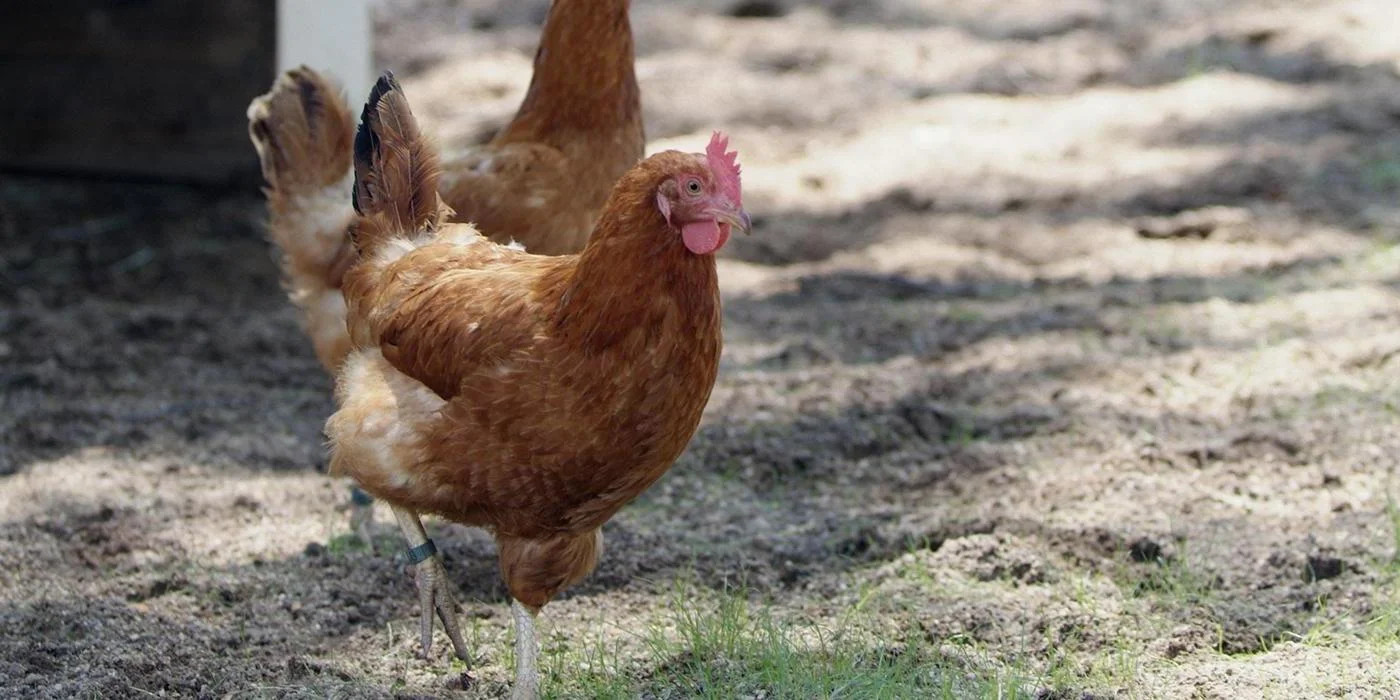bird: (321, 85, 746, 696)
